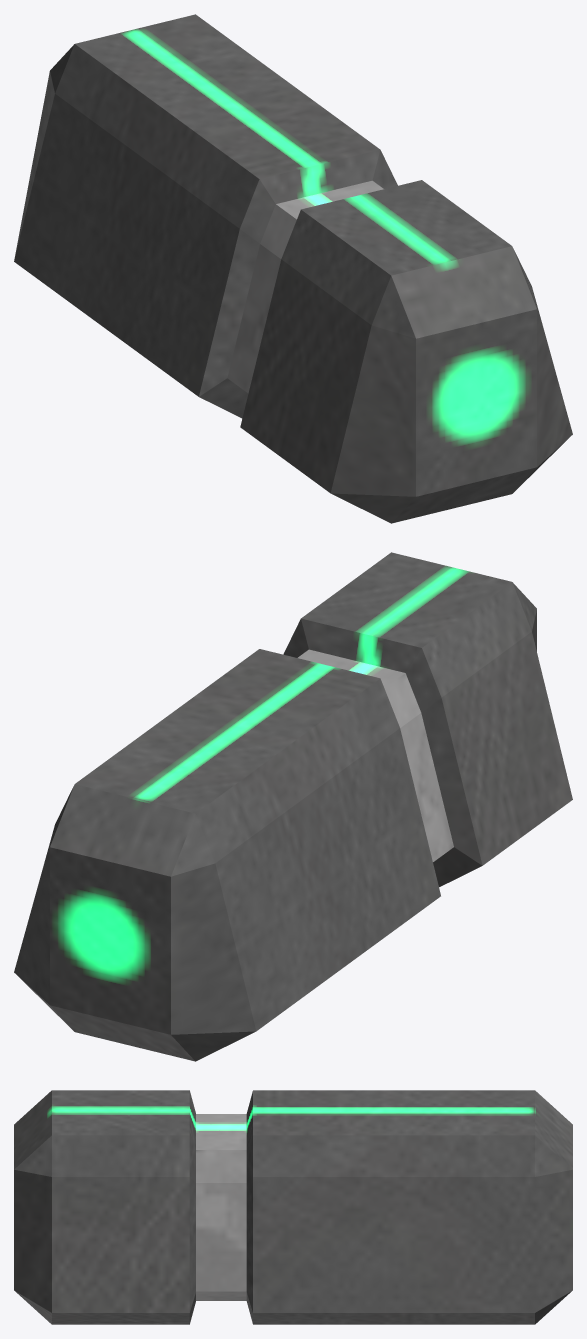
The model's file is ShotgunAmmo.fbx.
3 renders of one model, top to bottom at view 1: azimuth 30°, elevation 25°; view 2: azimuth 150°, elevation 25°; view 3: azimuth 270°, elevation 25°, orthographic. The views are drawn at different scales.
Parts seen in each view (by area): view 1: Shotgun Ammo; view 2: Shotgun Ammo; view 3: Shotgun Ammo.
Boxes of the visible parts, x1,y1,x2,y2 form: Shotgun Ammo: [14, 14, 572, 523]; Shotgun Ammo: [14, 552, 572, 1061]; Shotgun Ammo: [14, 1090, 572, 1324].
Bounding box in the file's own units: 18.41 × 18 × 48.18.
